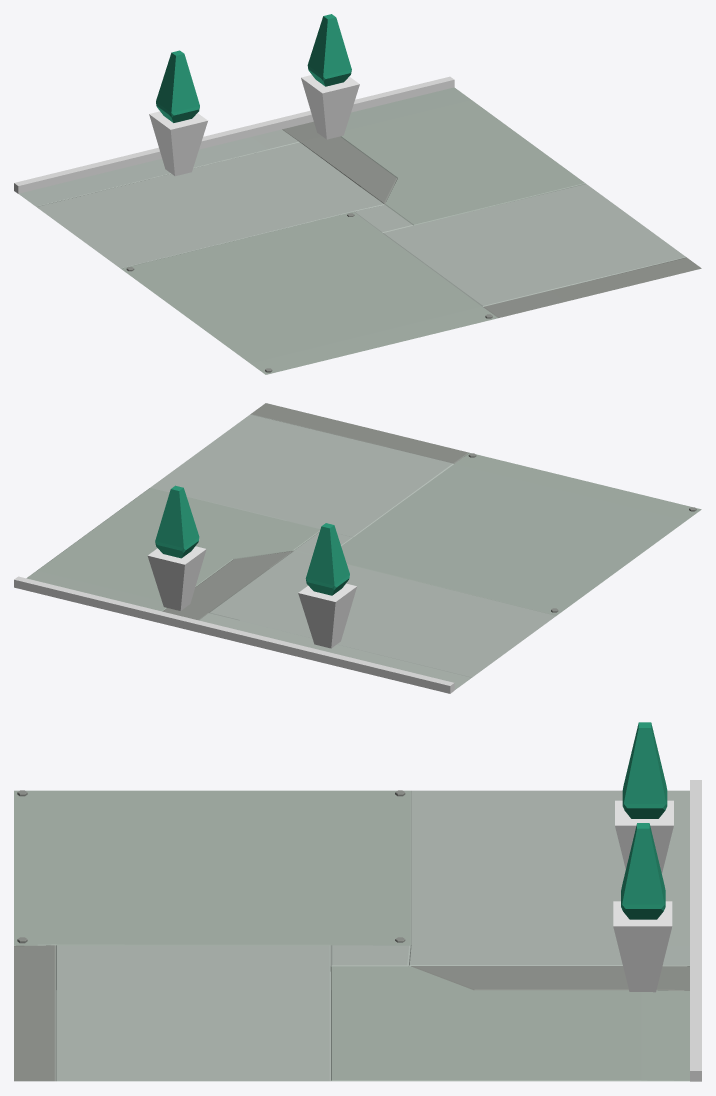
The picture shows the model from 3 angles, top to bottom: view 1: azimuth 30°, elevation 25°; view 2: azimuth 150°, elevation 25°; view 3: azimuth 270°, elevation 25°; orthographic projection. The views are drawn at different scales.
Visible parts, largest first — view 1: Scifi_Panel_04_Plaza014_group4.023_Scifi_Panel_04_Plaza014_g, base_singlePot01.018_base_singlePot01.006, base_singlePot01.019_base_singlePot01.007, Cube.926_Cube.1050; view 2: Scifi_Panel_04_Plaza014_group4.023_Scifi_Panel_04_Plaza014_g, Cube.926_Cube.1050, base_singlePot01.019_base_singlePot01.007, base_singlePot01.018_base_singlePot01.006; view 3: Scifi_Panel_04_Plaza014_group4.023_Scifi_Panel_04_Plaza014_g, base_singlePot01.019_base_singlePot01.007, base_singlePot01.018_base_singlePot01.006, Cube.926_Cube.1050.
Boxes of the visible parts, box(x1,y1,x2,y2) form: Scifi_Panel_04_Plaza014_group4.023_Scifi_Panel_04_Plaza014_g: box(18, 87, 701, 374); base_singlePot01.018_base_singlePot01.006: box(149, 50, 207, 176); base_singlePot01.019_base_singlePot01.007: box(301, 14, 359, 139); Cube.926_Cube.1050: box(14, 76, 454, 193); Scifi_Panel_04_Plaza014_group4.023_Scifi_Panel_04_Plaza014_g: box(26, 403, 701, 689); Cube.926_Cube.1050: box(14, 576, 454, 693); base_singlePot01.019_base_singlePot01.007: box(147, 485, 206, 610); base_singlePot01.018_base_singlePot01.006: box(298, 523, 356, 648); Scifi_Panel_04_Plaza014_group4.023_Scifi_Panel_04_Plaza014_g: box(14, 790, 689, 1081); base_singlePot01.019_base_singlePot01.007: box(613, 823, 672, 992); base_singlePot01.018_base_singlePot01.006: box(615, 722, 673, 873); Cube.926_Cube.1050: box(690, 780, 701, 1081).
Size of the model in its own units: 10 by 2.59 by 10.
